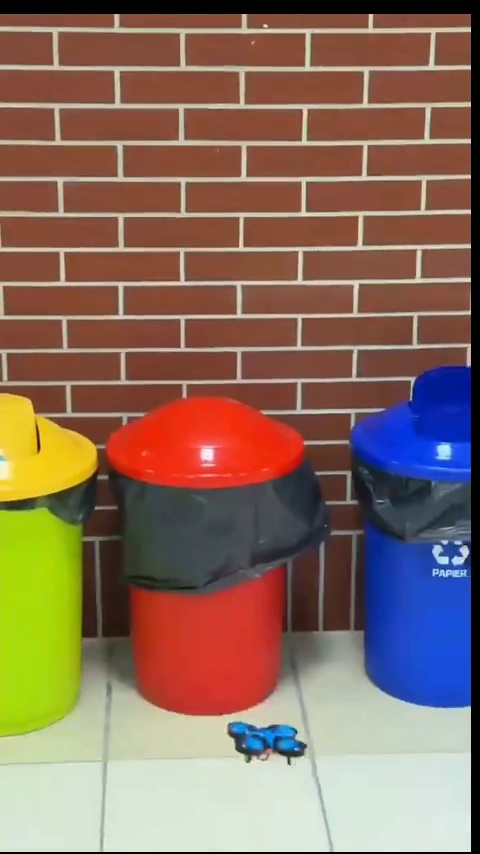drone: (227, 722, 301, 764)
